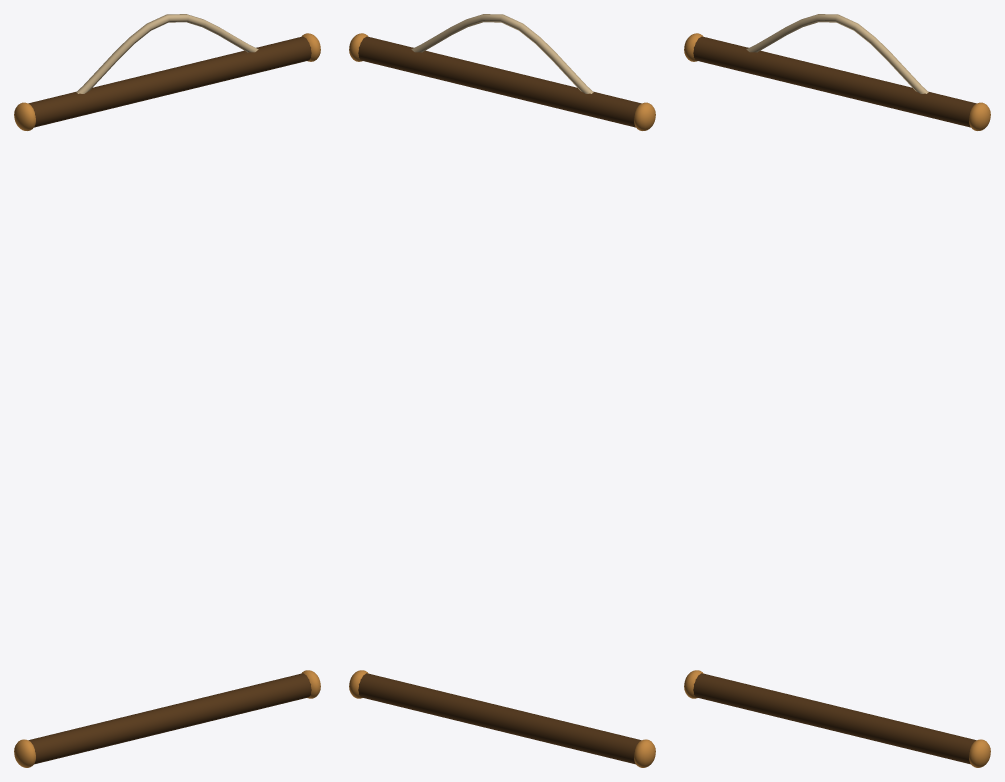
The model's file is mia-scroll.glb.
The picture shows the model from 3 angles, left to right: view 1: azimuth 30°, elevation 25°; view 2: azimuth 150°, elevation 25°; view 3: azimuth 330°, elevation 25°; orthographic projection.
Visible parts, largest first — view 1: Body_wood, Body_canvas, Body_brass; view 2: Body_wood, Body_canvas, Body_brass; view 3: Body_wood, Body_canvas, Body_brass.
Boxes of the visible parts, x1,y1,x2,y2 form: Body_wood: [28, 36, 311, 764]; Body_canvas: [76, 14, 258, 93]; Body_brass: [14, 33, 320, 767]; Body_wood: [358, 36, 641, 764]; Body_canvas: [411, 14, 593, 93]; Body_brass: [349, 33, 655, 767]; Body_wood: [693, 36, 976, 764]; Body_canvas: [746, 14, 928, 93]; Body_brass: [684, 33, 990, 767].
Size of the model in its own units: 0.744 by 1.69 by 0.062.
